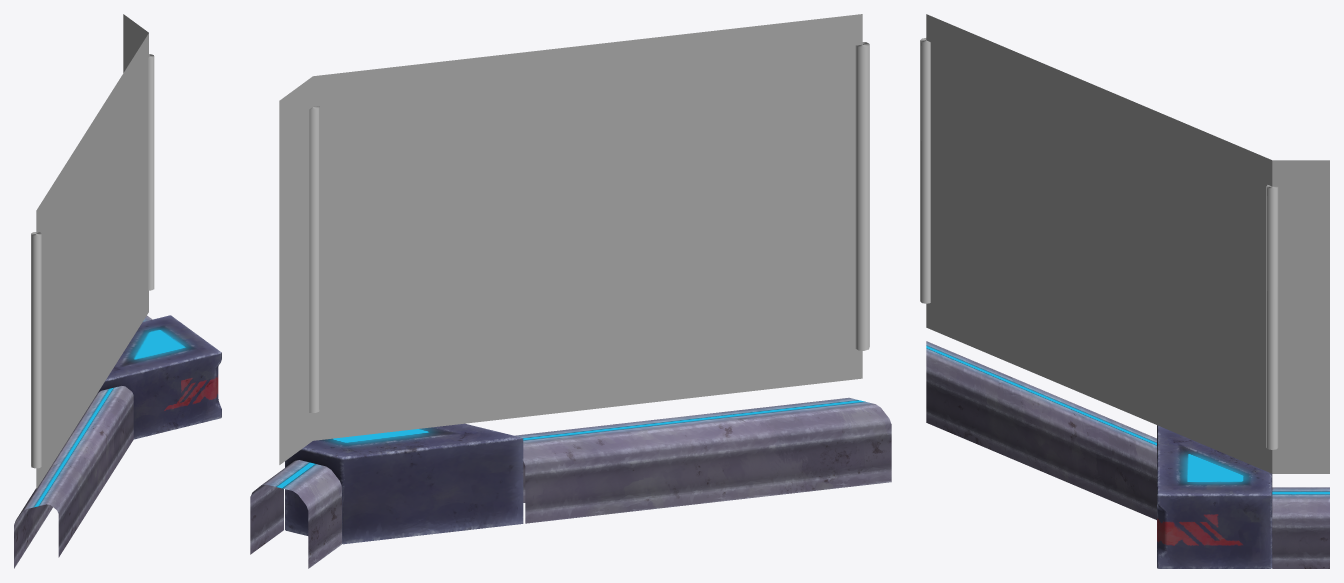
Rendered from SM_Bleachers_Wall_Corner.fbx.
3 views of the same model, side by side, from view 1: azimuth 30°, elevation 25°; view 2: azimuth 150°, elevation 25°; view 3: azimuth 270°, elevation 25° (orthographic). The views are drawn at different scales.
Visible parts, largest first — view 1: SM_Bleachers_Wall_Corner; view 2: SM_Bleachers_Wall_Corner; view 3: SM_Bleachers_Wall_Corner.
Part boxes in pixels (<box>): SM_Bleachers_Wall_Corner: <box>14,14,221,568</box>; SM_Bleachers_Wall_Corner: <box>250,14,891,568</box>; SM_Bleachers_Wall_Corner: <box>920,14,1329,568</box>.
Size of the model in its own units: 700 by 759 by 711.
